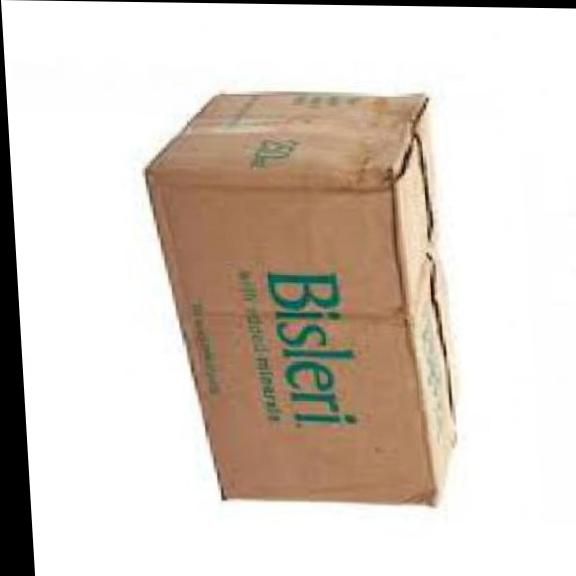Kertas: (148, 92, 456, 505)
